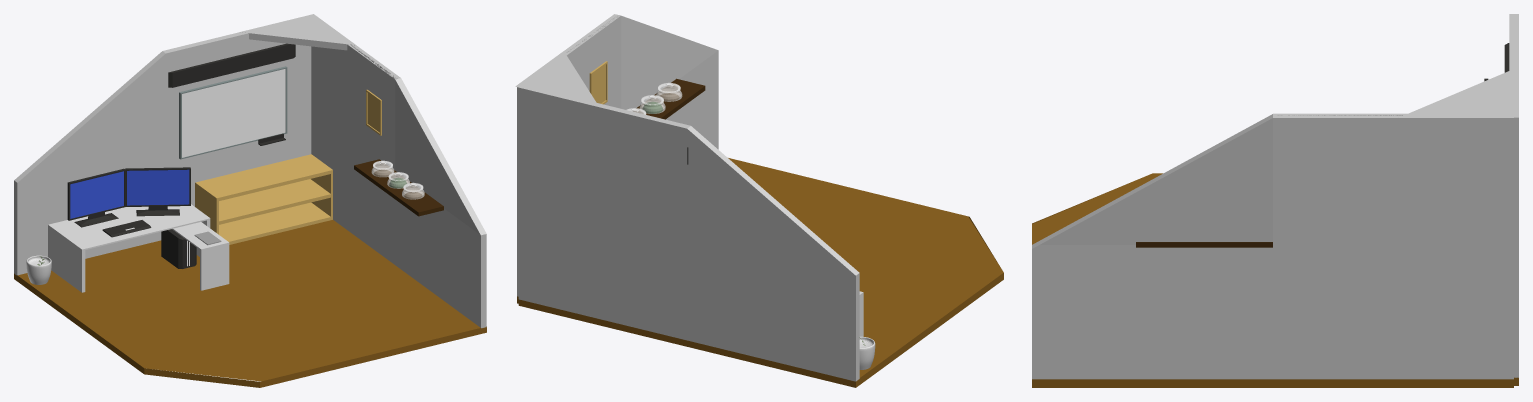
File: room5.glb
3 renders of one model, left to right at view 1: azimuth 30°, elevation 25°; view 2: azimuth 150°, elevation 25°; view 3: azimuth 270°, elevation 25°, orthographic. The views are drawn at different scales.
Visible parts, largest first — view 1: Floor, Wall2, Wall, Bookshelf, Whiteboard, Desk, Monitor2, Monitor, Celling, StockDisplay, DeskPart, HangingShelf (+4 smaller); view 2: Wall, Floor, Wall2, Celling, HangingShelf, Painting, Pot, TeaContainer; view 3: Wall2, Floor, Celling, Wall, HangingShelf.
Boxes of the visible parts, box(x1,y1,x2,y2) form: Floor: box(14, 220, 486, 387); Wall2: box(311, 44, 486, 328); Wall: box(14, 32, 311, 275); Bookshelf: box(195, 154, 332, 244); Whiteboard: box(179, 66, 287, 159); Desk: box(48, 204, 210, 292); Monitor2: box(125, 167, 190, 216); Monitor: box(67, 168, 125, 227); Celling: box(240, 14, 355, 50); StockDisplay: box(168, 43, 295, 87); DeskPart: box(172, 222, 229, 290); HangingShelf: box(354, 159, 443, 216); Wall: box(518, 87, 859, 381); Floor: box(517, 158, 1003, 387); Wall2: box(517, 14, 718, 296); Celling: box(515, 51, 598, 106); HangingShelf: box(633, 78, 705, 119); Painting: box(589, 61, 607, 104); Pot: box(859, 336, 875, 369); TeaContainer: box(639, 95, 665, 113); Wall2: box(1032, 113, 1513, 379); Floor: box(1032, 173, 1518, 387); Celling: box(1399, 67, 1518, 117); Wall: box(1509, 14, 1518, 377); HangingShelf: box(1136, 242, 1272, 247).
Bounding box in the file's own units: 10.13 × 6.18 × 10.1.
